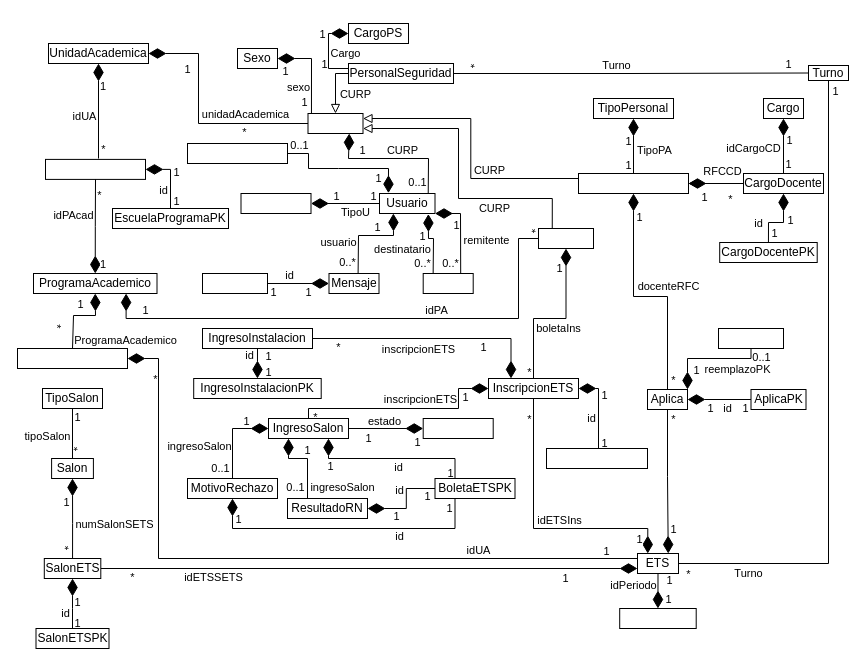
Some shapes in this 866 by 666 pixel diagram are drawn without their labels. Here are the shapes that lost their labels. From the top down, the centre of each, then its label:
pixel 335 123: Persona
pixel 95 168: EscuelaPrograma
pixel 237 153: TokenNotificacion
pixel 275 203: TipoUsuario
pixel 633 183: PersonalAcademico
pixel 566 238: Alumno
pixel 235 283: MensajePK
pixel 447 283: Chat
pixel 72 358: UnidadAprendizaje
pixel 751 338: Reemplazo
pixel 457 428: TipoEstado
pixel 597 458: InscripcionETSPK
pixel 657 618: PeriodoETS
